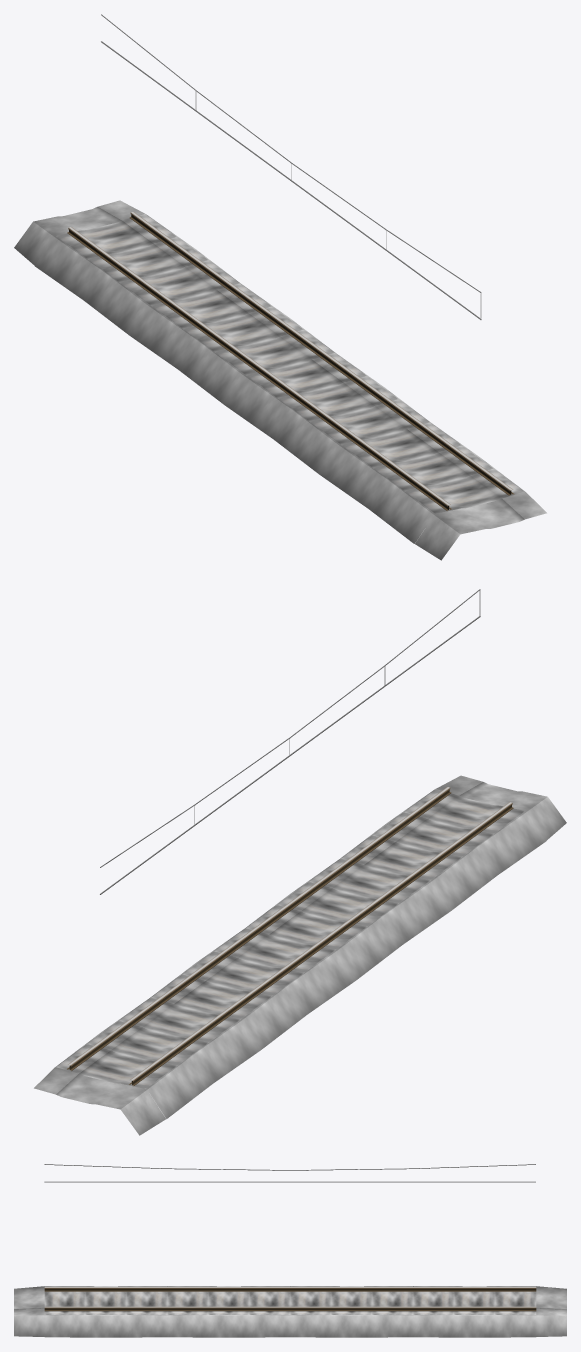
Rendered from AMB_HT_1RAIL50.glb.
3 renders of one model, top to bottom at view 1: azimuth 30°, elevation 25°; view 2: azimuth 150°, elevation 25°; view 3: azimuth 270°, elevation 25°, orthographic. The views are drawn at different scales.
Visible parts, largest first — view 1: Mesh1; view 2: Mesh1; view 3: Mesh1.
Part boxes in pixels (x1=…): Mesh1: x1=14, y1=14, x2=546, y2=560; Mesh1: x1=34, y1=589, x2=566, y2=1135; Mesh1: x1=14, y1=1164, x2=566, y2=1337.
Size of the model in its own units: 10.12 by 17.11 by 56.25.
Materials: 6 (4 with a texture image).
